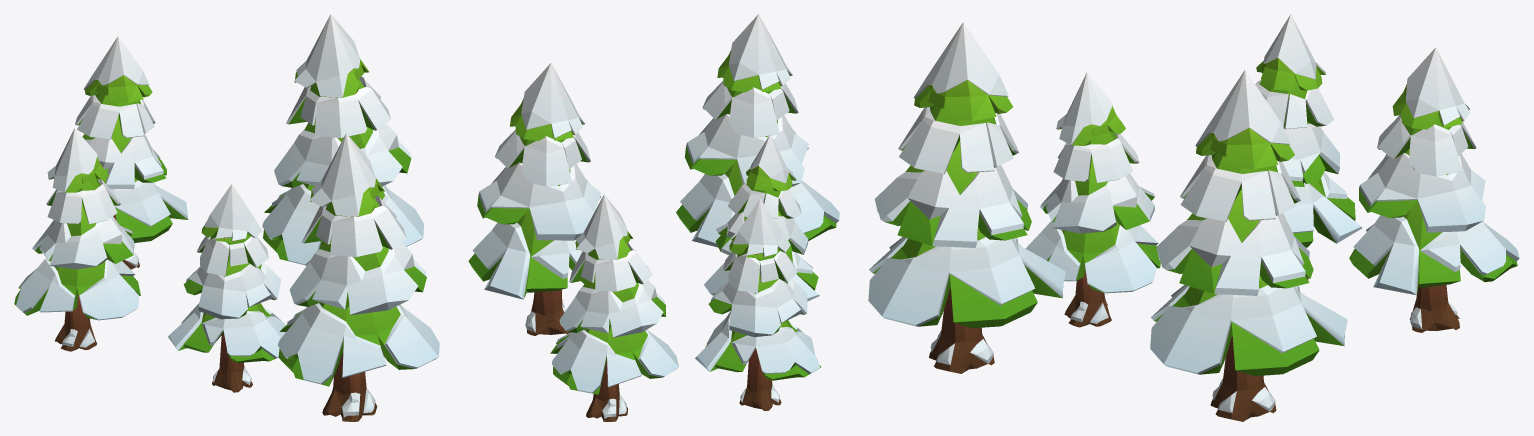
3 views of the same model, side by side, from view 1: azimuth 30°, elevation 25°; view 2: azimuth 150°, elevation 25°; view 3: azimuth 270°, elevation 25° (orthographic). The views are drawn at different scales.
Visible parts, largest first — view 1: SnowyTree (9), SnowyTree (6), SnowyTree (10), SnowyTree (8), SnowyTree (7); view 2: SnowyTree (6), SnowyTree (9), SnowyTree (7), SnowyTree (10), SnowyTree (8); view 3: SnowyTree (6), SnowyTree (9), SnowyTree (7), SnowyTree (8), SnowyTree (10).
Boxes of the visible parts, x1,y1,x2,y2 form: SnowyTree (9): (278, 133, 439, 421); SnowyTree (6): (262, 14, 423, 265); SnowyTree (10): (14, 128, 140, 351); SnowyTree (8): (168, 184, 285, 392); SnowyTree (7): (75, 36, 188, 269); SnowyTree (6): (468, 63, 601, 335); SnowyTree (9): (676, 14, 839, 247); SnowyTree (7): (550, 194, 678, 421); SnowyTree (10): (695, 198, 821, 410); SnowyTree (8): (704, 134, 819, 301); SnowyTree (6): (1150, 70, 1347, 421); SnowyTree (9): (868, 22, 1065, 373); SnowyTree (7): (1349, 47, 1519, 332); SnowyTree (8): (1025, 72, 1160, 327); SnowyTree (10): (1255, 14, 1362, 280).
Size of the model in its own units: 673 by 500 by 846.
1 material, 1 textured.
